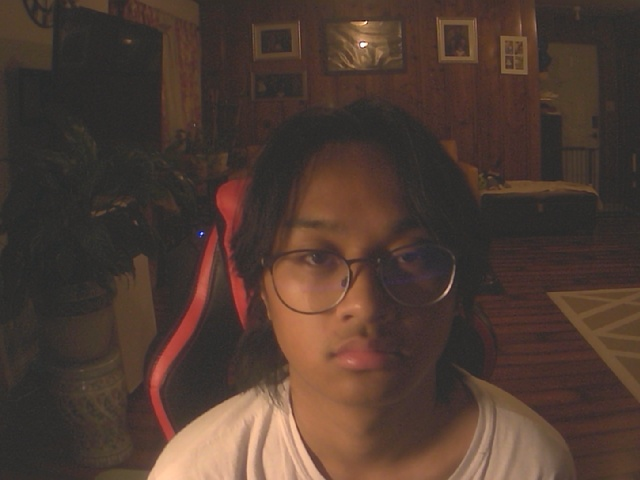neutral: (230, 92, 489, 417)
